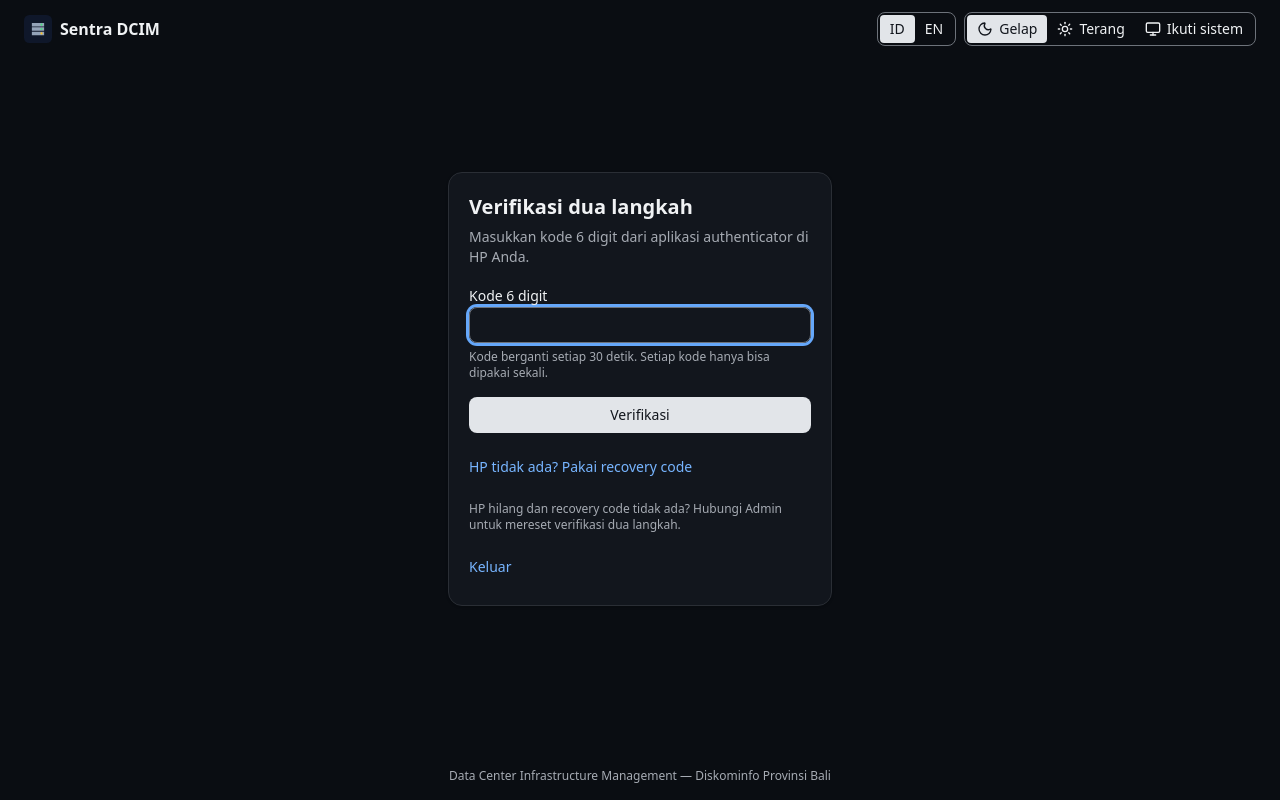
Test: MFA › verifies with the app code or a recovery code; MFA comes before the forced password change
Expected: the element with test id "mfa-verify-page" is shown, left=448, top=172, right=832, bottom=606
Click the button with test id "mfa-toggle-recovery" at point(581, 467), box left=469, top=449, right=692, bottom=485
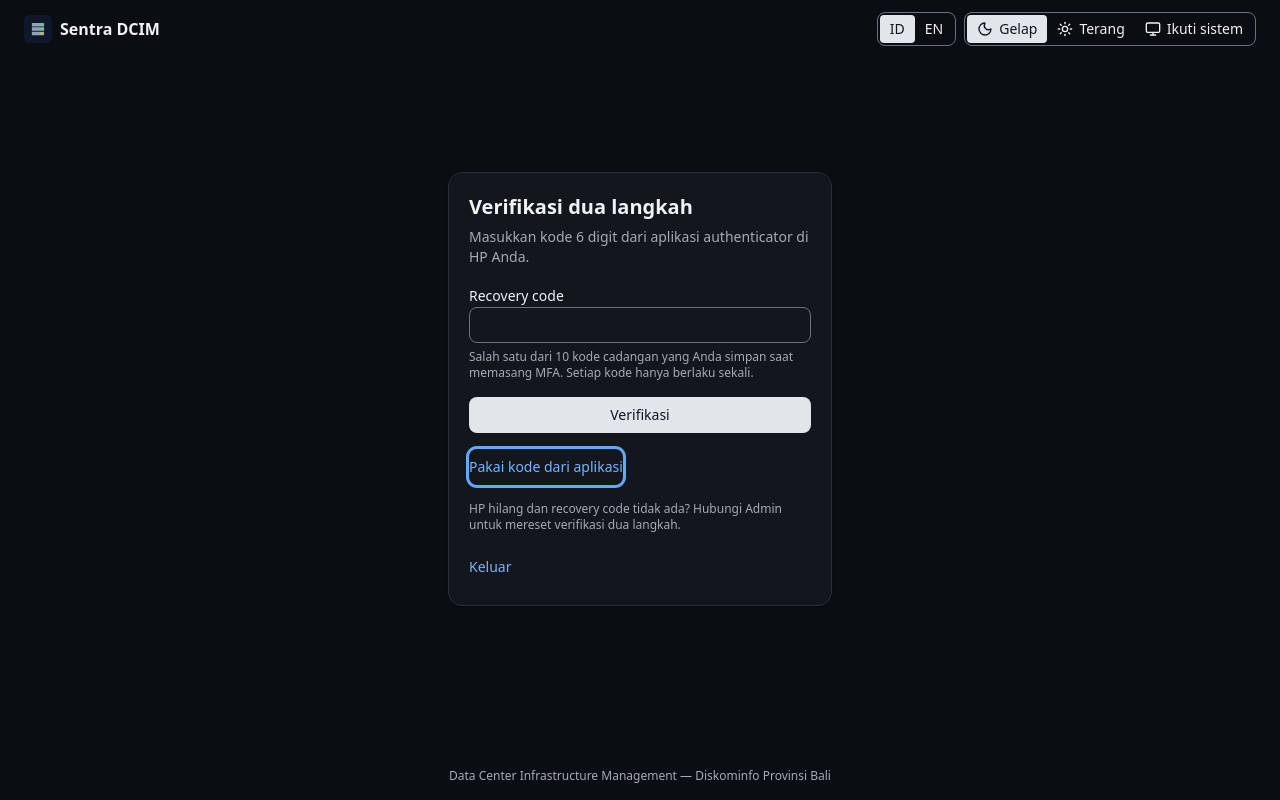
Type "wrong-codex" into the field labelled "Recovery code" at point(640, 325), box left=469, top=307, right=811, bottom=343
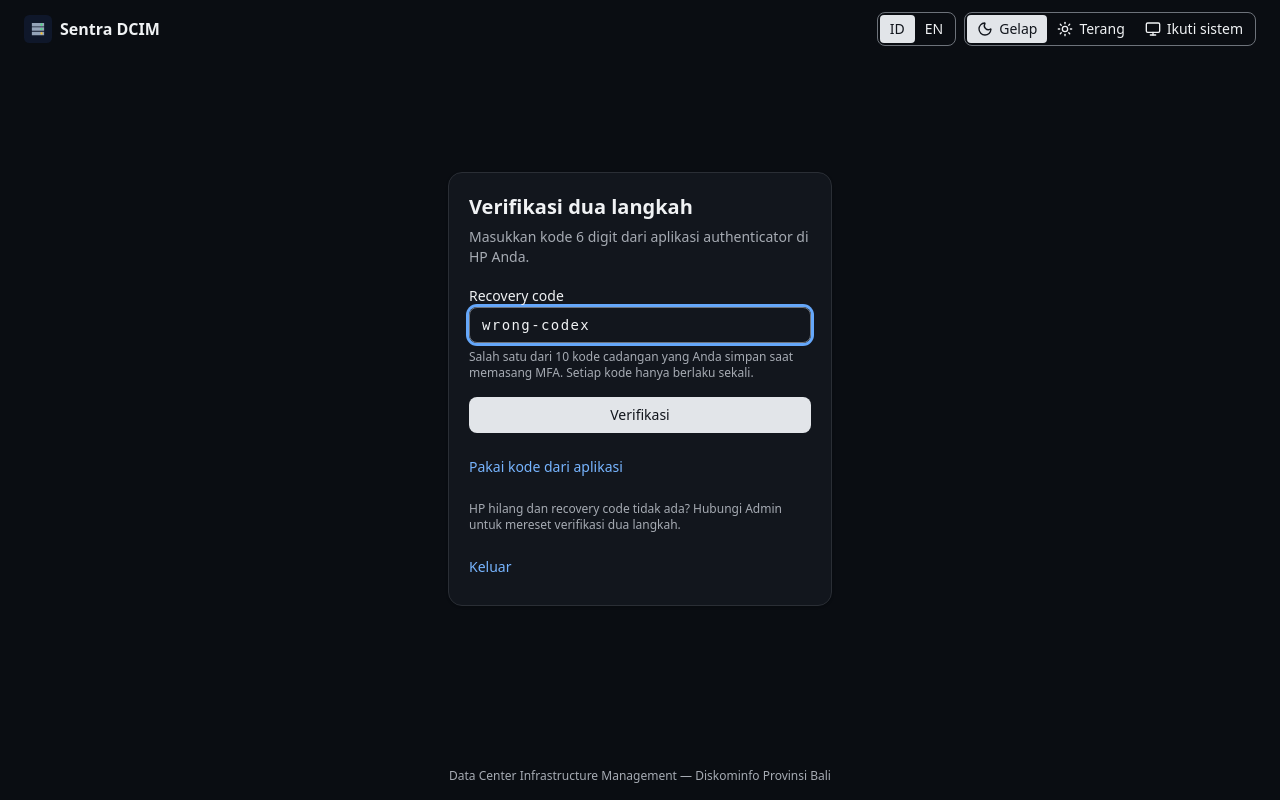
Click the button "Verifikasi" at point(640, 415), box left=469, top=397, right=811, bottom=433
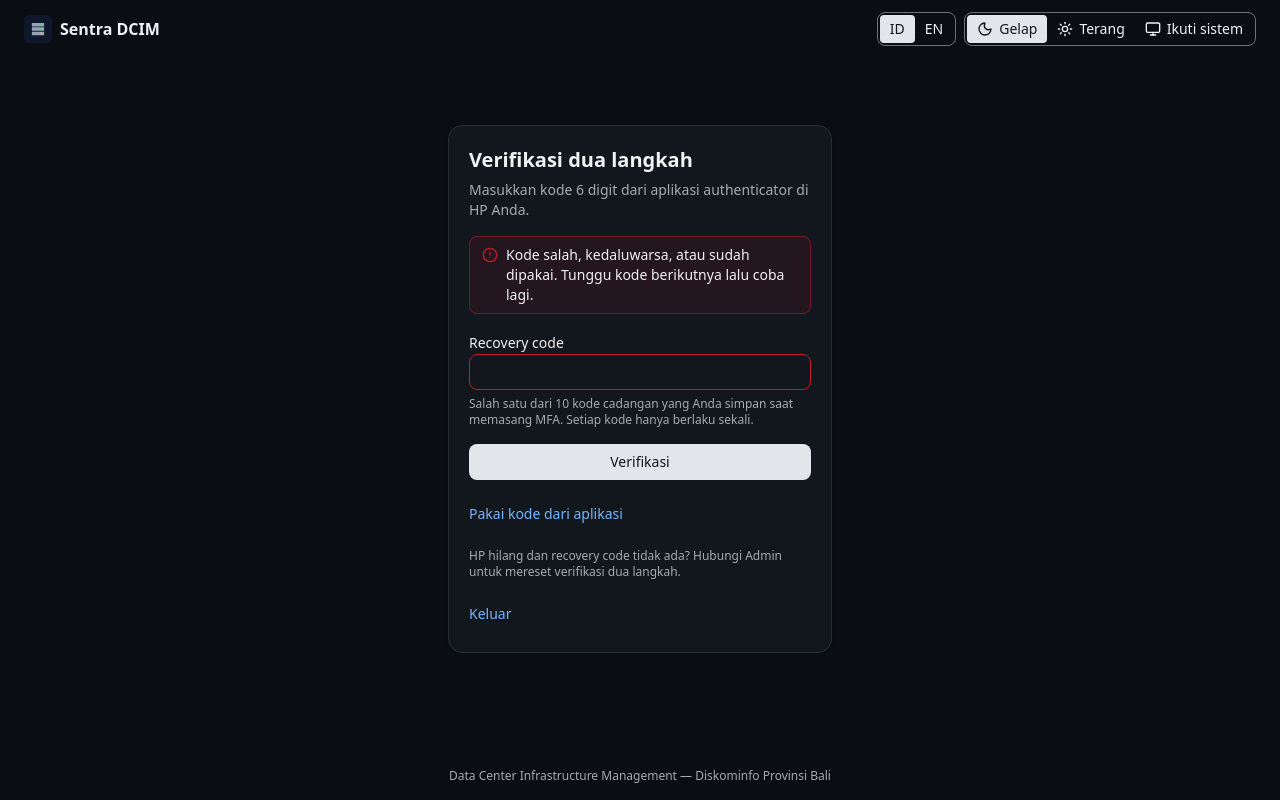
Expected: the message with test id "mfa-error" shows "Kode salah, kedaluwarsa, atau sudah dipakai. Tunggu kode berikutnya lalu coba lagi.", left=506, top=245, right=784, bottom=304
Type "abcde-fghjk" into the field labelled "Recovery code" at point(640, 372), box left=469, top=354, right=811, bottom=390
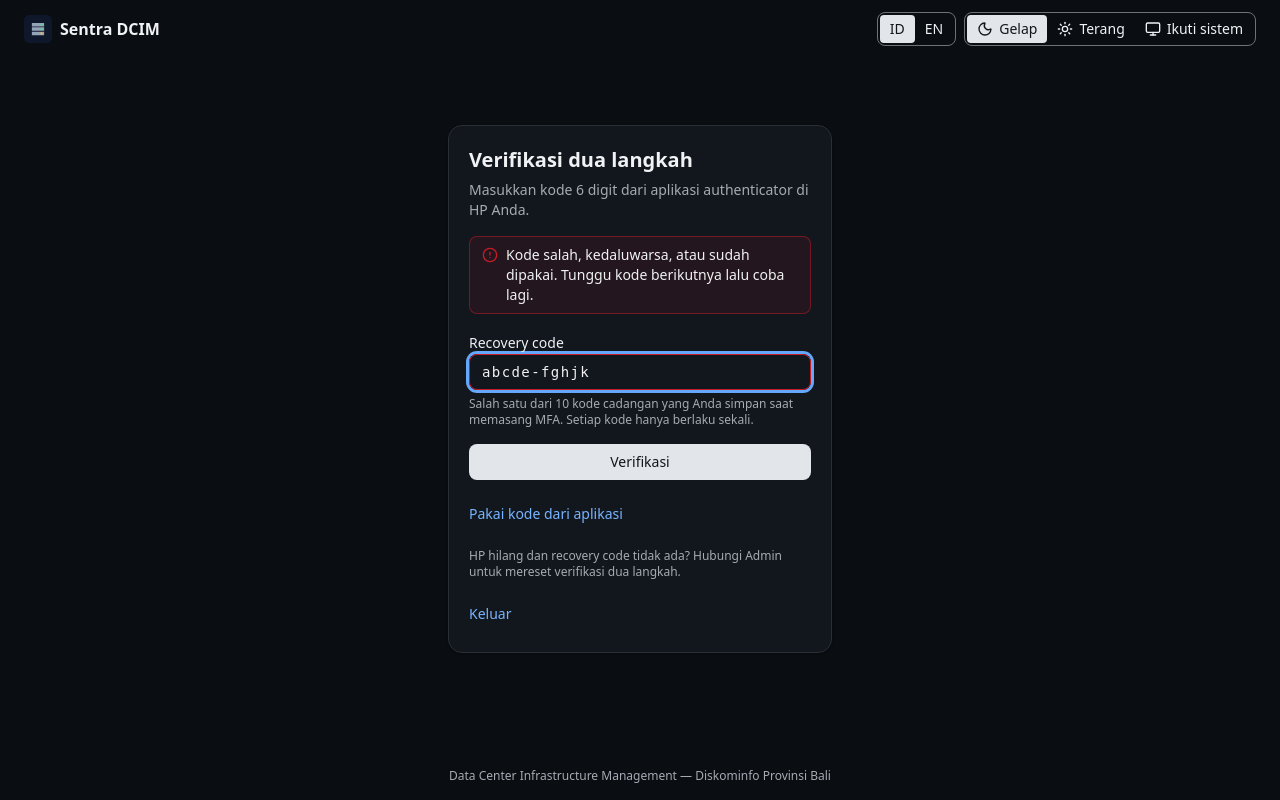
Click the button "Verifikasi" at point(640, 462), box left=469, top=444, right=811, bottom=480
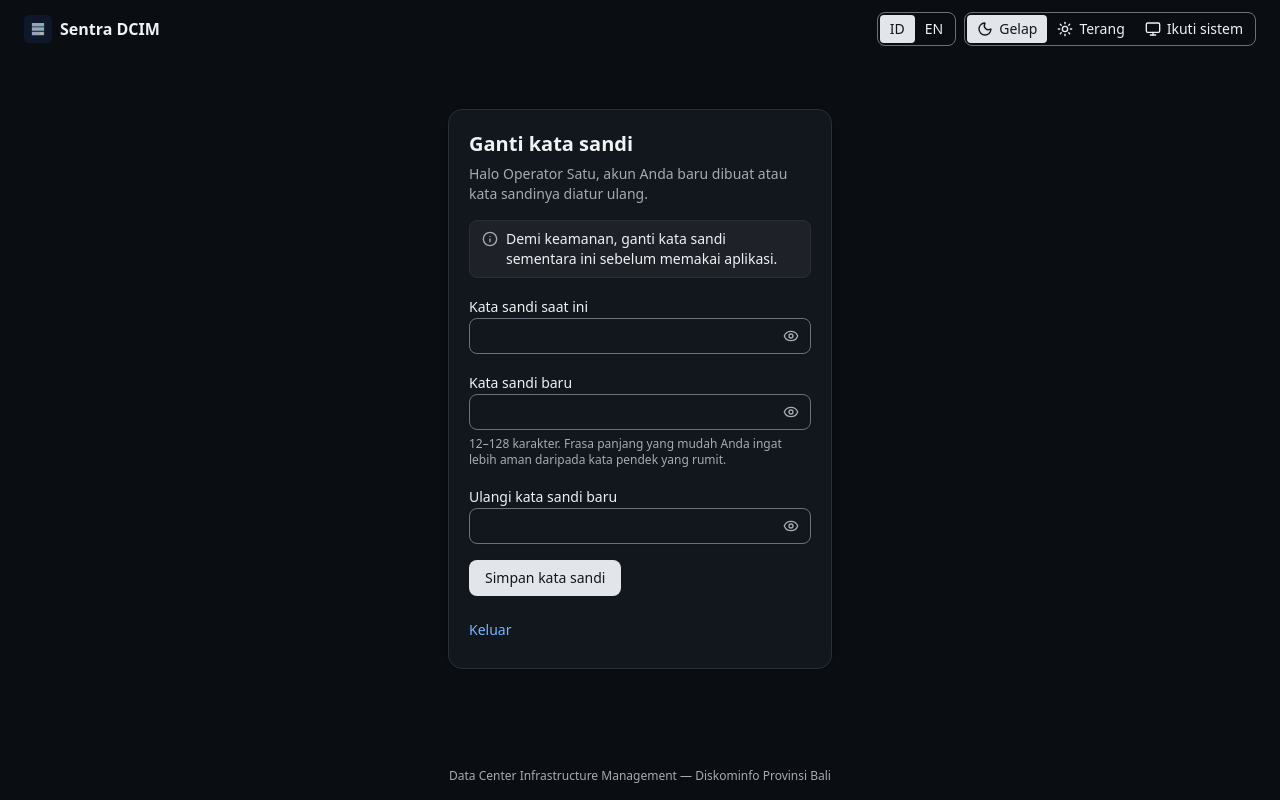
Expected: the element with test id "forced-password-page" is shown, left=448, top=109, right=832, bottom=669
